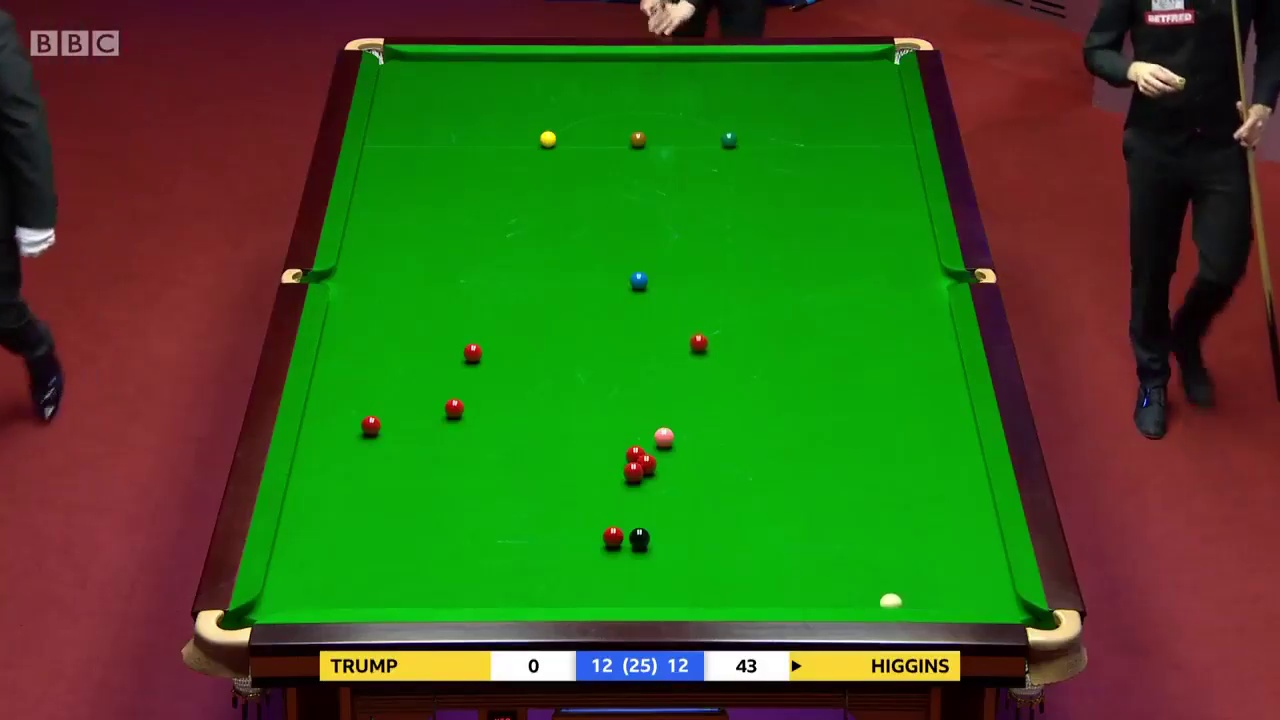ball: (625, 268, 648, 292), (629, 525, 650, 551), (601, 526, 624, 549), (651, 425, 674, 448), (440, 398, 465, 419), (461, 341, 483, 362), (360, 416, 382, 437), (536, 130, 558, 150), (627, 127, 647, 148), (624, 460, 642, 481), (689, 333, 709, 351), (719, 128, 737, 147)
